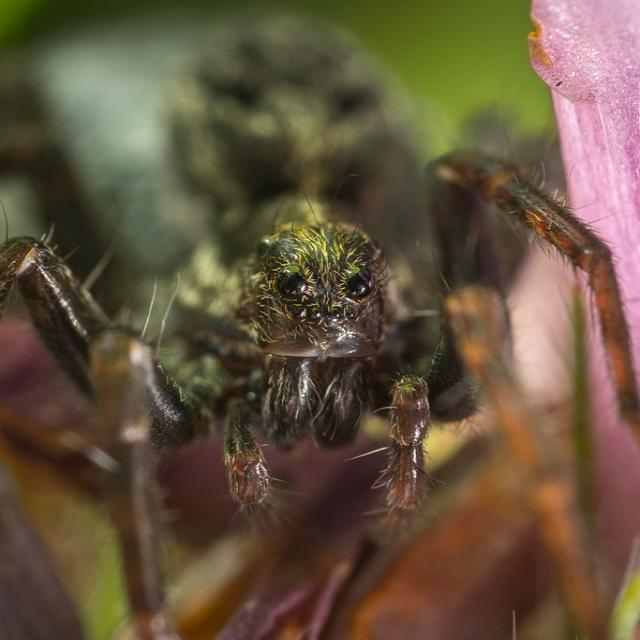spyder: (1, 19, 638, 640)
